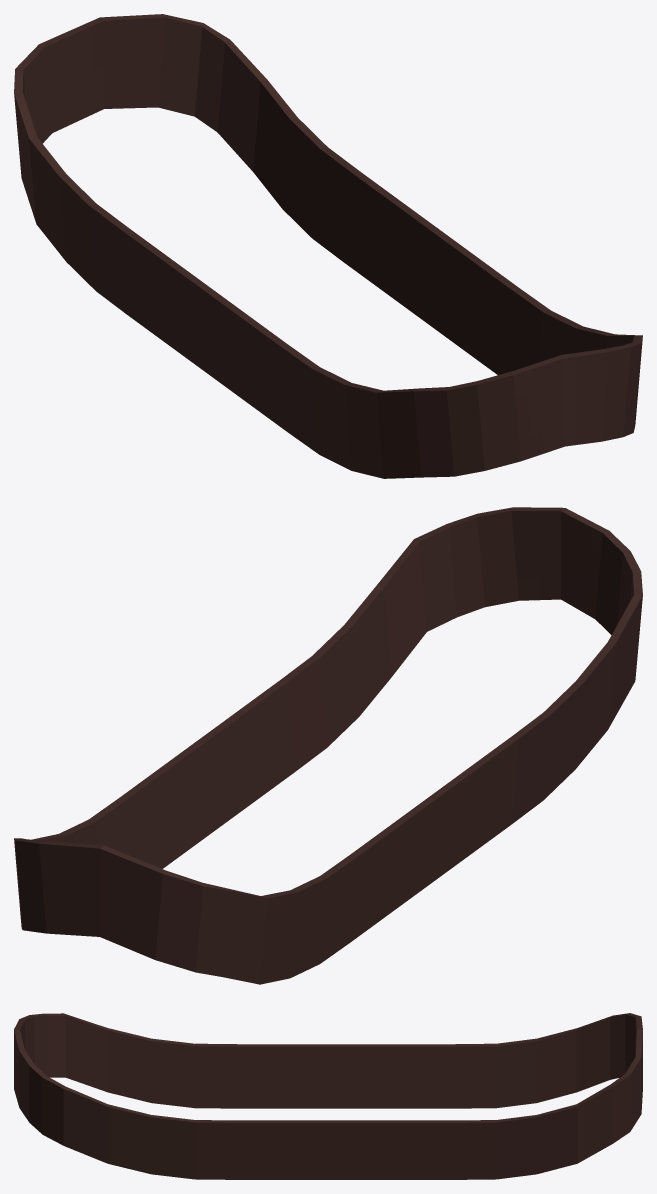
The model's file is border2ElectricBoogaloo.fbx.
3 renders of one model, top to bottom at view 1: azimuth 30°, elevation 25°; view 2: azimuth 150°, elevation 25°; view 3: azimuth 270°, elevation 25°, orthographic. The views are drawn at different scales.
Parts seen in each view (by area): view 1: Cube.001; view 2: Cube.001; view 3: Cube.001.
Part boxes in pixels (x1,y1,x2,y2): Cube.001: (14, 14, 642, 478); Cube.001: (14, 507, 642, 984); Cube.001: (14, 1013, 642, 1179).
Bounding box in the file's own units: 229 × 154 × 773.
